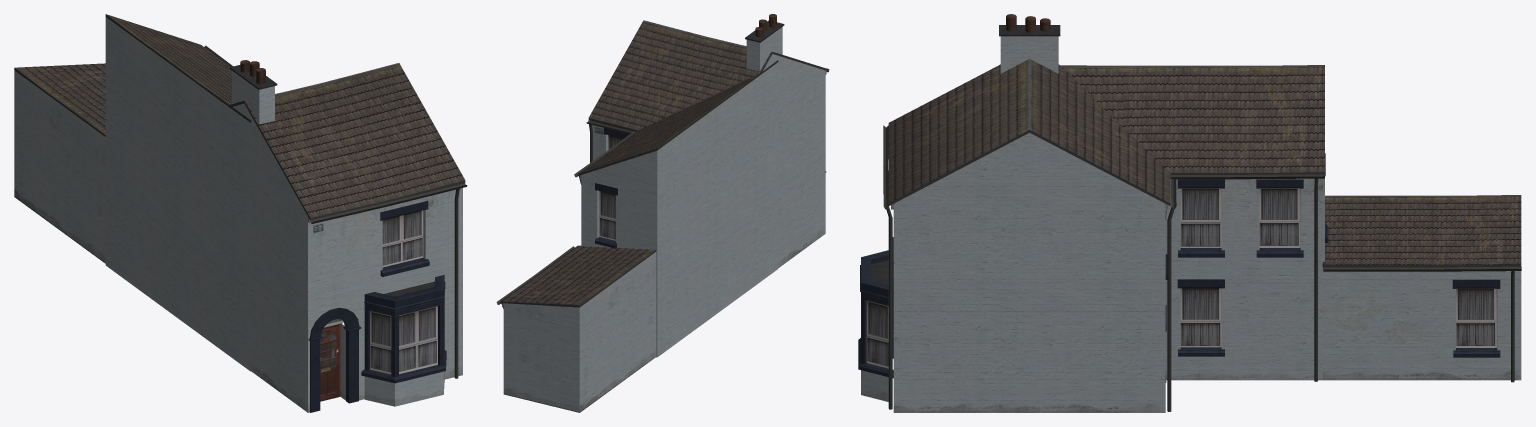
The model's file is ukterracedvictorian9m.FBX.
3 views of the same model, side by side, from view 1: azimuth 30°, elevation 25°; view 2: azimuth 150°, elevation 25°; view 3: azimuth 270°, elevation 25° (orthographic). The views are drawn at different scales.
Visible parts, largest first — view 1: Object003; view 2: Object003; view 3: Object003.
Boxes of the visible parts, bbox=[...] form: Object003: bbox=[14, 14, 467, 412]; Object003: bbox=[496, 14, 829, 412]; Object003: bbox=[858, 14, 1521, 412].
Size of the model in its own units: 561 by 1041 by 1949.
